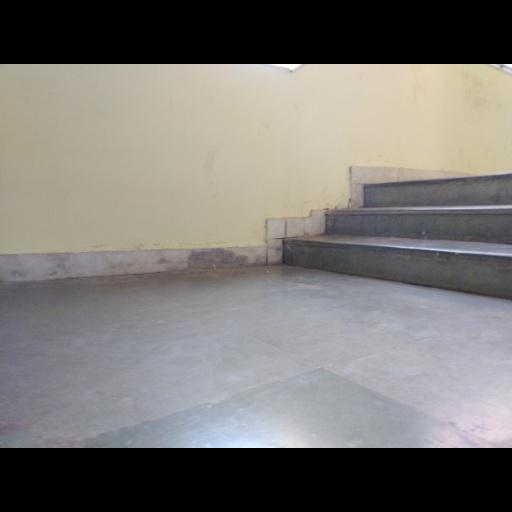stairs: (284, 174, 511, 298)
